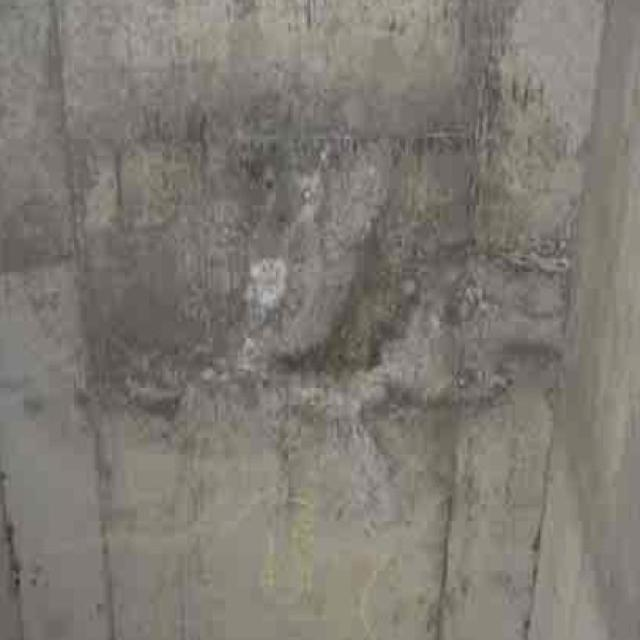freelime: (234, 240, 300, 353)
